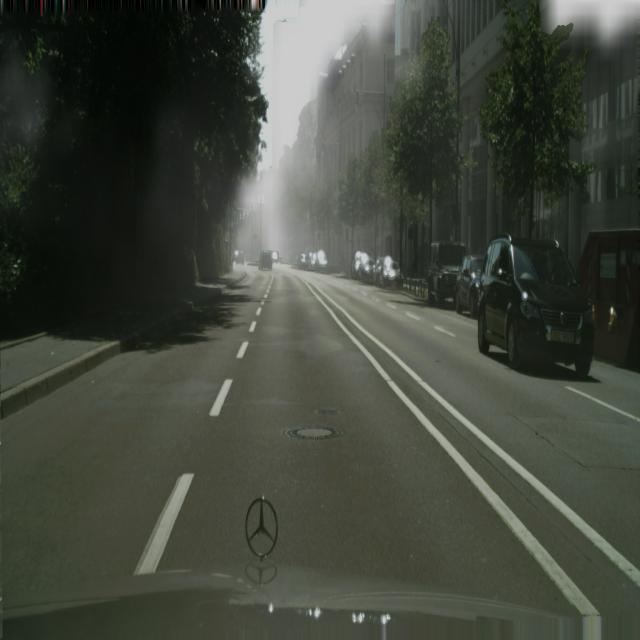truck: (477, 234, 596, 379), (427, 241, 466, 308), (455, 254, 485, 317), (375, 255, 403, 290), (352, 251, 372, 281), (258, 250, 273, 271), (315, 249, 328, 271), (297, 252, 309, 270), (306, 251, 316, 271)
